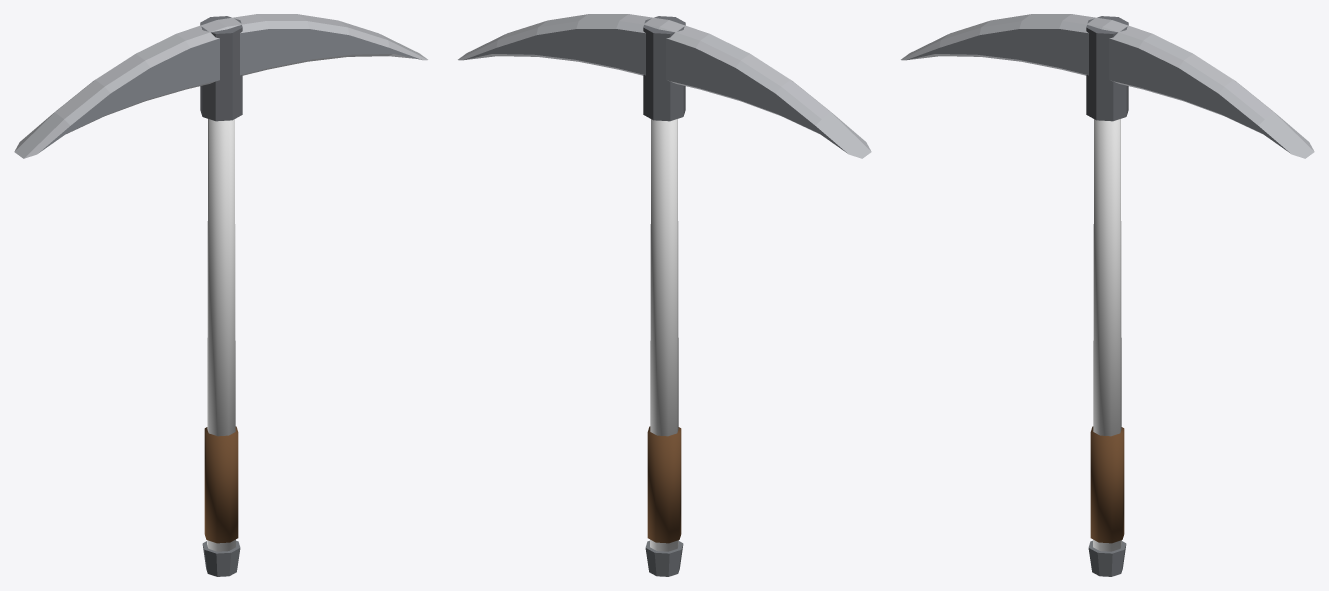
Rendered from iron_pickaxe.glb.
The picture shows the model from 3 angles, left to right: view 1: azimuth 30°, elevation 25°; view 2: azimuth 150°, elevation 25°; view 3: azimuth 330°, elevation 25°; orthographic projection.
Visible parts, largest first — view 1: iron_pickaxe_v0; view 2: iron_pickaxe_v0; view 3: iron_pickaxe_v0.
Part boxes in pixels (x1,y1,x2,y2): iron_pickaxe_v0: [14, 14, 427, 576]; iron_pickaxe_v0: [458, 14, 871, 576]; iron_pickaxe_v0: [901, 14, 1314, 576].
Size of the model in its own units: 0.68 by 0.8775 by 0.064.
